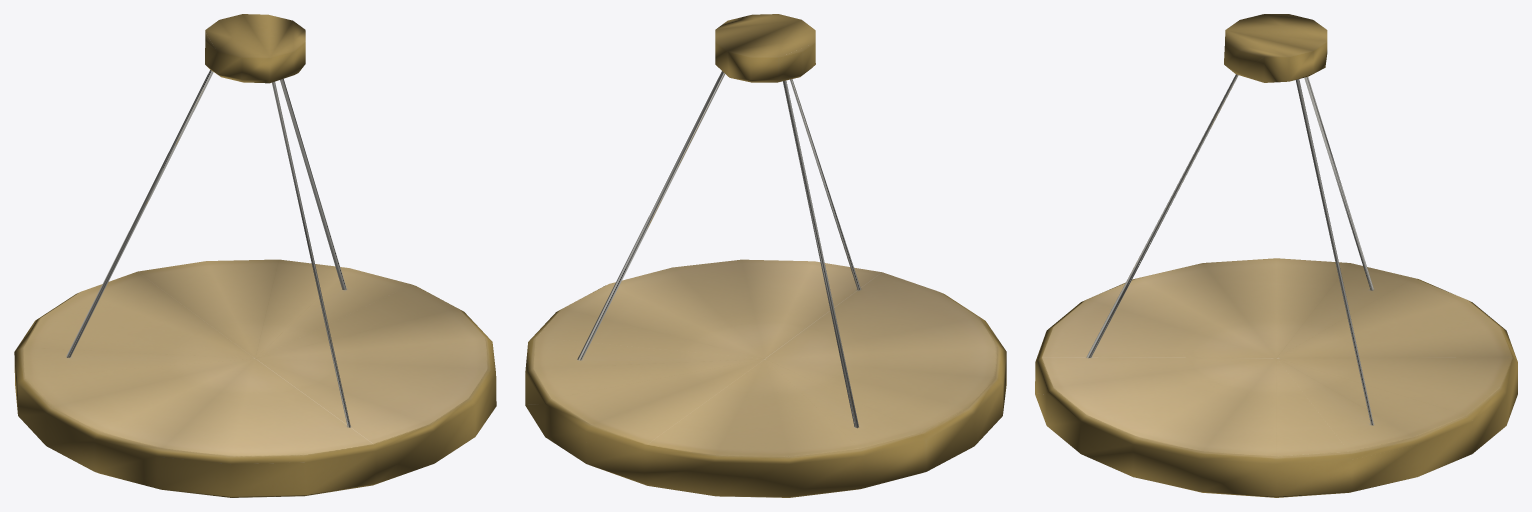
Rendered from lobby_pendant.fbx.
The picture shows the model from 3 angles, left to right: view 1: azimuth 30°, elevation 25°; view 2: azimuth 150°, elevation 25°; view 3: azimuth 270°, elevation 25°; orthographic projection.
Parts seen in each view (by area): view 1: Mesh_0; view 2: Mesh_0; view 3: Mesh_0.
Boxes of the visible parts, x1=… form: Mesh_0: x1=14, y1=14, x2=496, y2=497; Mesh_0: x1=525, y1=14, x2=1006, y2=497; Mesh_0: x1=1035, y1=14, x2=1517, y2=497.
Bounding box in the file's own units: 95.8 × 79.64 × 95.8.
Materials: 1 (1 with a texture image).
